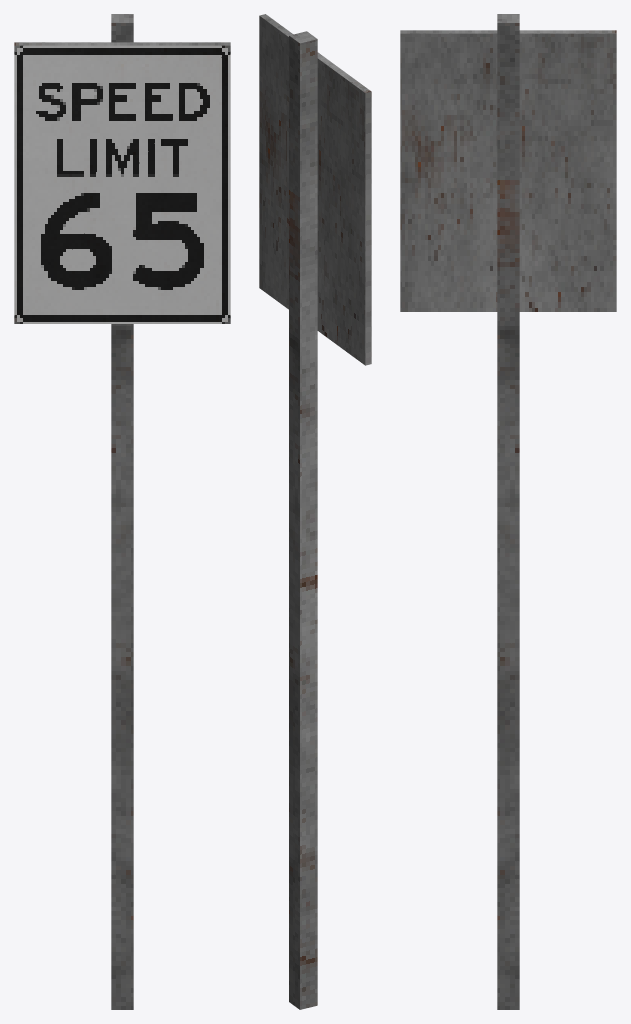
Rendered from Sign_SL65.glb.
3 views of the same model, side by side, from view 1: azimuth 90°, elevation 25°; view 2: azimuth 210°, elevation 25°; view 3: azimuth 270°, elevation 25° (orthographic). The views are drawn at different scales.
Parts seen in each view (by area): view 1: Sign_SL65; view 2: Sign_SL65; view 3: Sign_SL65.
Boxes of the visible parts, left/top/right/bottom form: Sign_SL65: left=14, top=14, right=230, bottom=1009; Sign_SL65: left=259, top=14, right=371, bottom=1009; Sign_SL65: left=400, top=14, right=616, bottom=1009.
Size of the model in its own units: 0.0576 by 2.21 by 0.4385.
1 material, 1 textured.
